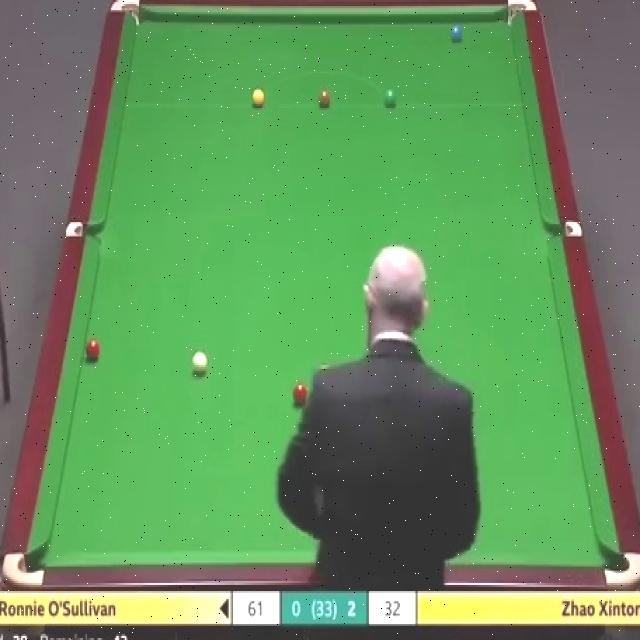blue-ball: (449, 24, 464, 43)
brown-ball: (318, 90, 331, 106)
green-ball: (383, 86, 398, 110)
red-ball: (85, 337, 101, 361), (292, 382, 308, 404)
white-ball: (191, 350, 208, 374)
yellow-ball: (251, 86, 265, 108)
